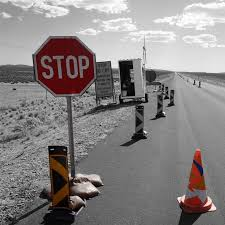stop sign: (33, 36, 97, 97)
